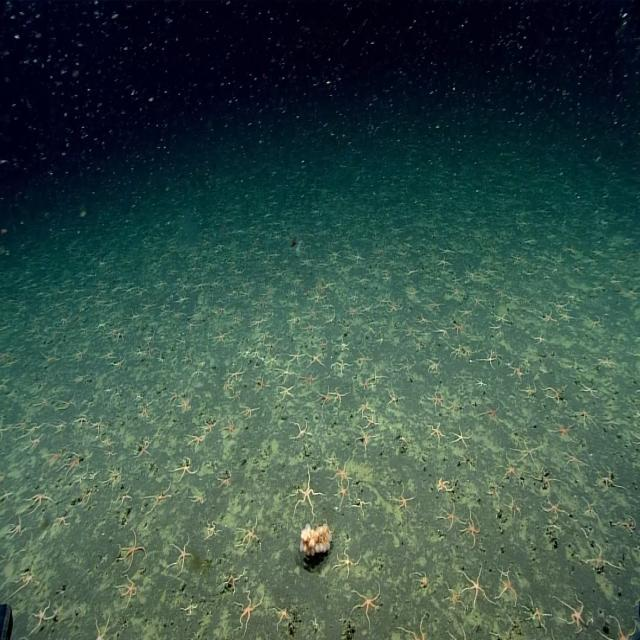brittle-stars: (294, 464, 318, 520), (235, 588, 263, 633), (460, 569, 490, 608), (581, 542, 620, 570), (116, 530, 146, 566), (557, 594, 587, 628), (353, 584, 381, 620), (167, 536, 193, 572), (146, 478, 171, 515), (12, 560, 37, 594), (30, 598, 53, 634), (236, 516, 259, 551), (336, 545, 358, 578), (115, 576, 139, 606), (92, 608, 113, 640), (394, 484, 415, 515), (176, 456, 198, 482), (499, 577, 518, 607), (464, 512, 482, 543), (28, 487, 51, 511), (550, 419, 573, 443), (516, 440, 539, 463), (540, 496, 564, 518), (222, 569, 243, 594), (502, 454, 520, 482), (441, 504, 461, 529), (354, 426, 374, 451), (332, 459, 352, 482), (63, 453, 82, 477), (564, 448, 583, 472), (446, 584, 463, 610), (53, 511, 73, 533), (22, 420, 42, 442), (480, 401, 499, 424), (271, 604, 289, 628), (9, 512, 24, 540), (397, 355, 415, 378), (453, 426, 471, 448), (107, 464, 123, 488), (428, 421, 444, 445), (277, 381, 296, 401), (277, 362, 295, 383), (425, 357, 442, 379), (387, 385, 402, 409), (205, 518, 220, 540), (482, 348, 497, 370), (356, 349, 371, 371), (444, 398, 462, 416), (332, 356, 348, 376), (336, 481, 351, 502), (137, 436, 151, 458), (580, 381, 597, 399), (227, 363, 245, 380), (317, 388, 332, 408), (183, 596, 197, 617), (222, 418, 236, 439), (90, 416, 106, 434), (438, 477, 456, 493), (308, 350, 324, 368), (178, 394, 192, 414), (363, 408, 377, 428), (336, 333, 350, 353), (304, 368, 318, 388), (187, 433, 204, 449), (252, 376, 269, 392), (428, 390, 442, 409), (46, 450, 62, 466), (331, 388, 346, 405), (240, 404, 258, 418), (213, 328, 227, 346), (552, 296, 567, 312), (265, 350, 280, 366), (540, 308, 554, 325), (452, 319, 465, 337), (404, 285, 419, 300), (202, 418, 216, 434), (290, 348, 304, 363), (168, 389, 180, 406), (103, 446, 116, 461), (374, 292, 386, 308), (559, 311, 573, 324), (434, 326, 448, 339), (475, 376, 487, 391), (494, 313, 509, 325), (388, 301, 399, 314), (135, 347, 144, 361), (102, 434, 112, 446), (363, 377, 371, 392)
